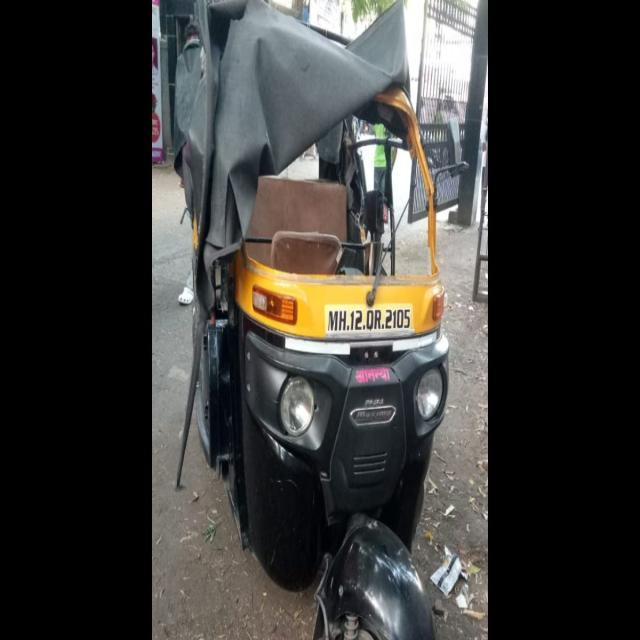accident: (175, 0, 449, 638)
